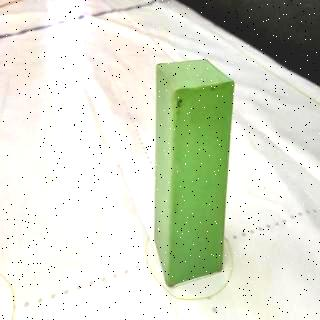greenbox: (153, 57, 235, 288)
